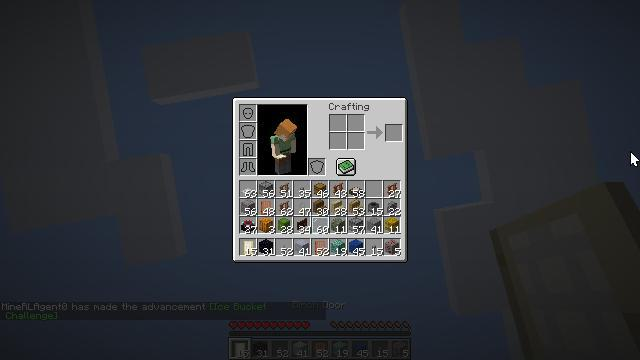cursor: (630, 151, 640, 167)
